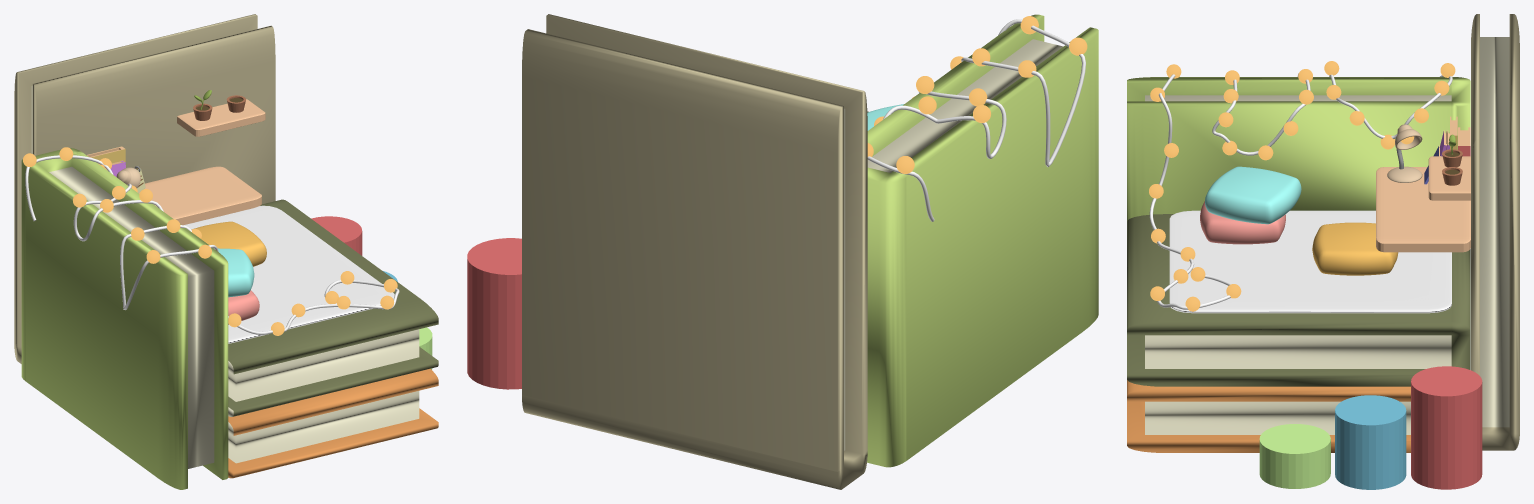
The model's file is Bookroomwithoutbg.glb.
3 views of the same model, side by side, from view 1: azimuth 30°, elevation 25°; view 2: azimuth 150°, elevation 25°; view 3: azimuth 270°, elevation 25° (orthographic). The views are drawn at different scales.
Visible parts, largest first — view 1: Cube003, Cube004, Cube002, Cube, Cube009, Cube005, BezierCurve, Cube010, Cube006, Cube008, Cylinder006, Cube007; view 2: Cube004, Cube003, Cylinder006, BezierCurve; view 3: Cube003, Cube002, Cube004, Cube009, Cube, Cylinder006, Cylinder007, Cube005, Cube008, Cylinder002, Cube006, BezierCurve (+4 smaller).
Part boxes in pixels (x1,y1,x2,y2): Cube003: (21, 148, 228, 489); Cube004: (14, 14, 275, 363); Cube002: (228, 199, 438, 416); Cube: (228, 368, 438, 478); Cube009: (184, 205, 394, 343); Cube005: (138, 166, 261, 225); BezierCurve: (25, 155, 399, 334); Cube010: (177, 99, 265, 136); Cube006: (191, 221, 266, 266); Cube008: (217, 248, 254, 297); Cylinder006: (311, 216, 362, 255); Cube007: (228, 290, 259, 324); Cube004: (522, 14, 867, 489); Cube003: (867, 14, 1098, 467); Cylinder006: (467, 238, 521, 389); BezierCurve: (867, 19, 1085, 221); Cube003: (1127, 77, 1470, 220); Cube002: (1127, 214, 1470, 386); Cube004: (1471, 14, 1519, 450); Cube009: (1169, 210, 1451, 313); Cube: (1127, 380, 1410, 452); Cylinder006: (1411, 366, 1482, 489); Cylinder007: (1335, 395, 1406, 489); Cube005: (1376, 167, 1470, 252); Cube008: (1205, 166, 1301, 224); Cylinder002: (1259, 424, 1330, 488); Cube006: (1312, 222, 1398, 275); BezierCurve: (1149, 73, 1452, 309).
Size of the model in its own units: 2.47 by 2.01 by 2.29.
